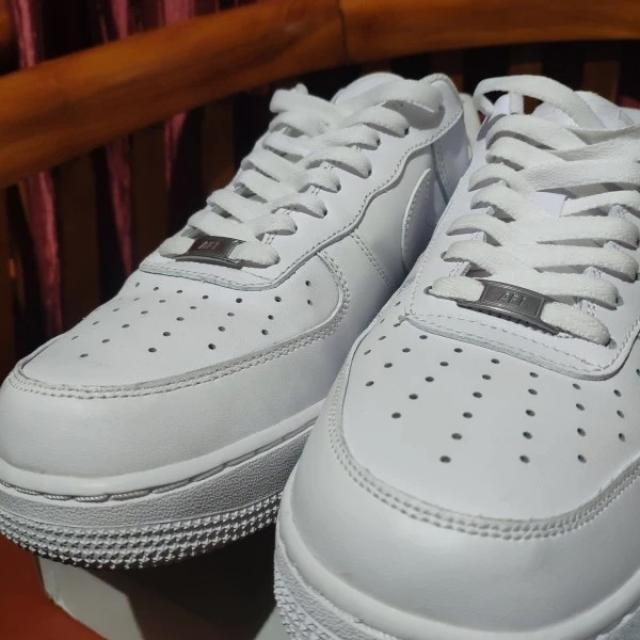nike original air force: (0, 67, 465, 572), (270, 91, 640, 639)
